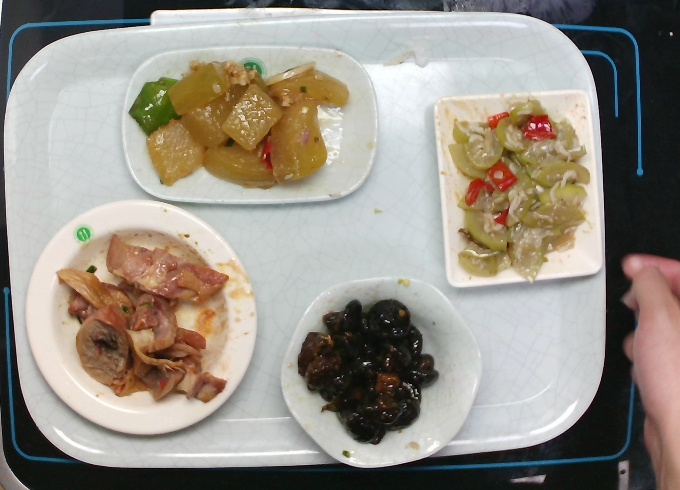WCQzf-Bai_Se_Si_Fang_Die: (429, 86, 606, 289)
WCQzf-Hua_Duo_Wan: (277, 272, 484, 469)
WCQzf-Kuan_Bian_Yuan_Die: (22, 196, 260, 439)
WCQzf-Tuo_Yuan_Pan: (119, 41, 381, 207)
